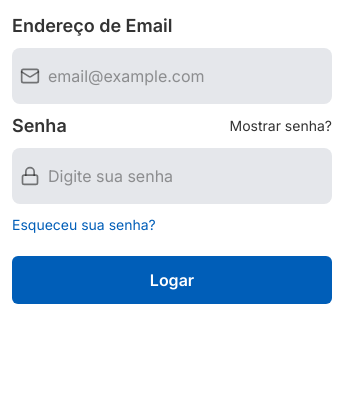
Test case: LoginComponent › deve não validar o formulario
This screenshot has width=349, height=393.
Type "emailexamplecom" into the field with placeholder "email@example.com".
click(186, 76); type("emailexamplecom")  # box [48,56,324,96]
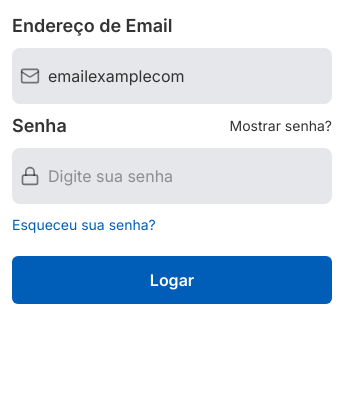
Type "1234" into the password field with placeholder "Digite sua senha".
click(186, 176); type("1234")  # box [48,156,324,196]
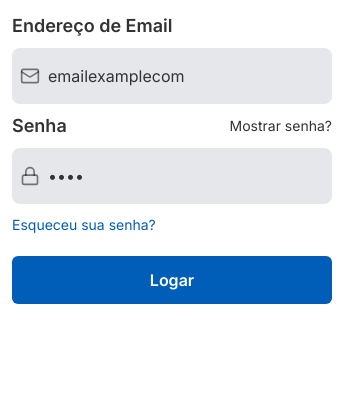
Click the button "Logar".
click(172, 280)  # box [12,256,332,304]
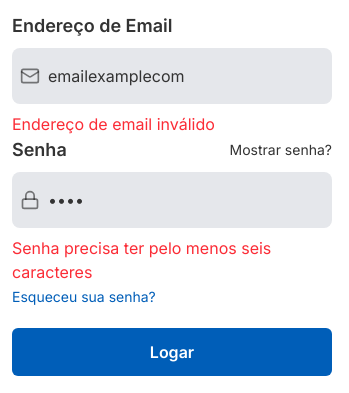
Expected: the text "Endereço de email inválido" is shown, [12,114,215,134]
Expected: the text "Senha precisa ter pelo menos seis caracteres" is shown, [12,238,271,282]
